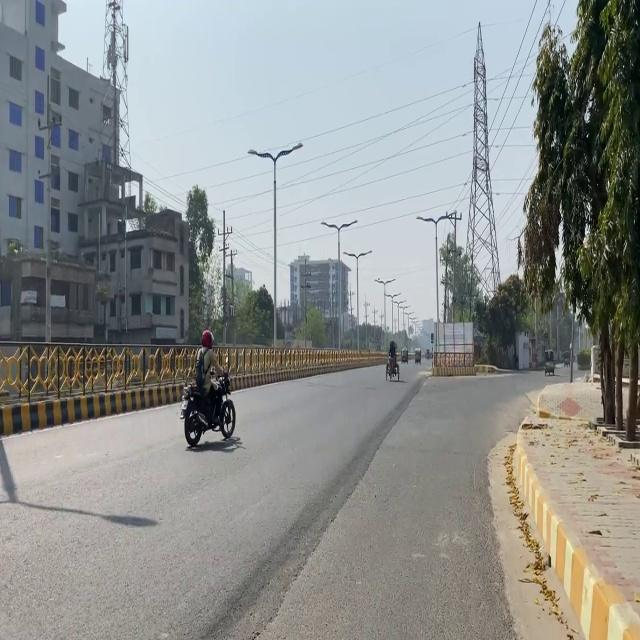Construction-barrier: (191, 478, 371, 634), (546, 514, 636, 640), (0, 378, 185, 436)
Fallen-tree: (178, 369, 236, 446), (385, 355, 400, 381), (425, 348, 431, 359)
Garbage: (430, 321, 475, 376)
Garbage-bin: (194, 329, 228, 426), (387, 340, 398, 374)
Pothole: (512, 375, 639, 638)
